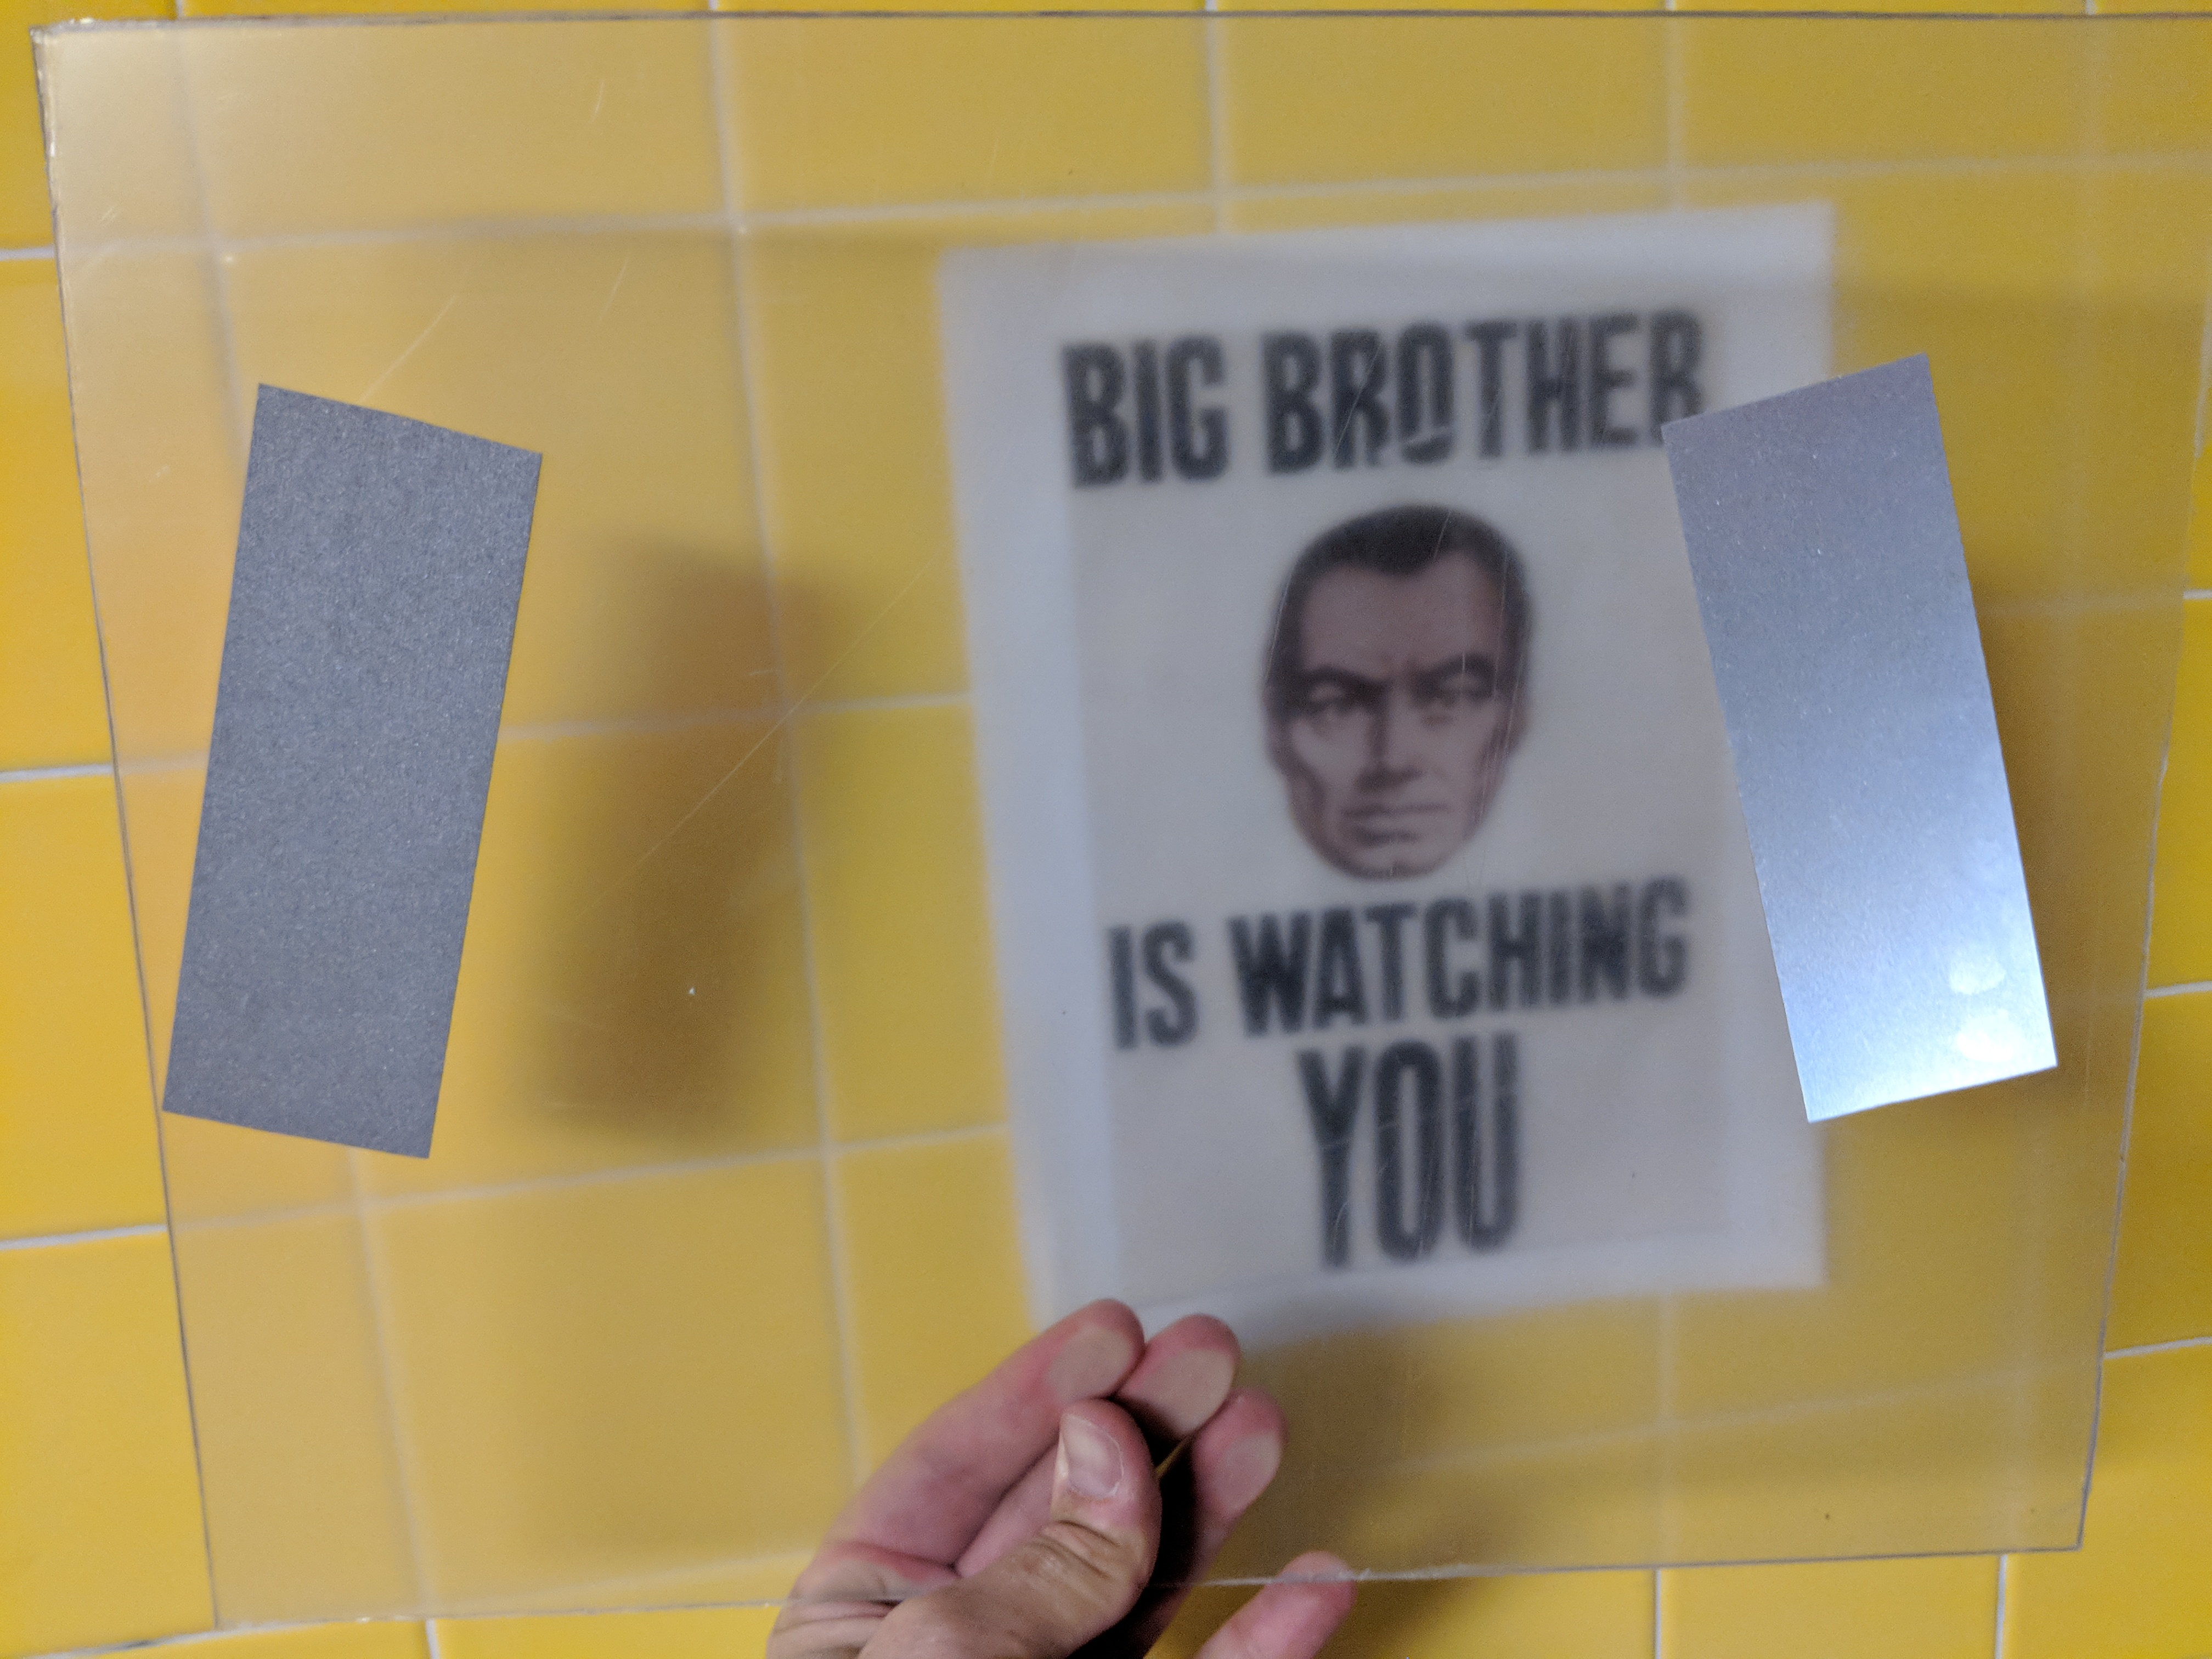vision_target: (152, 347, 2074, 1183)
